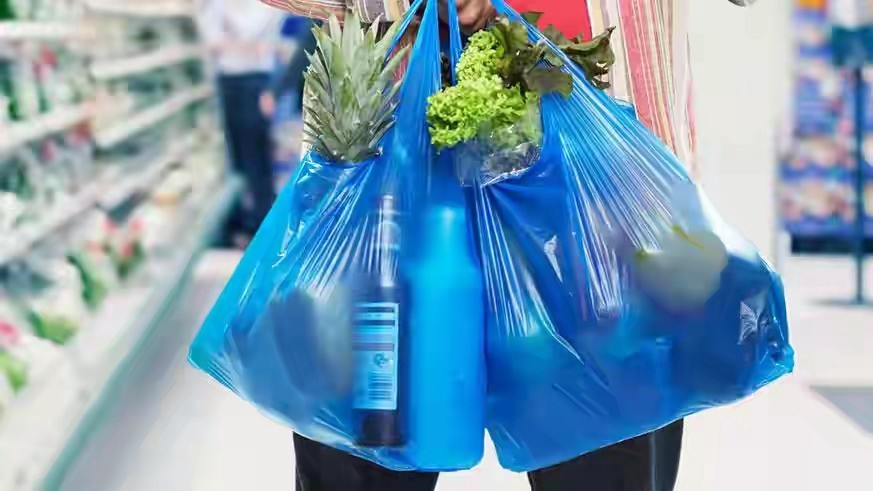plastic_bag: (174, 1, 806, 475)
